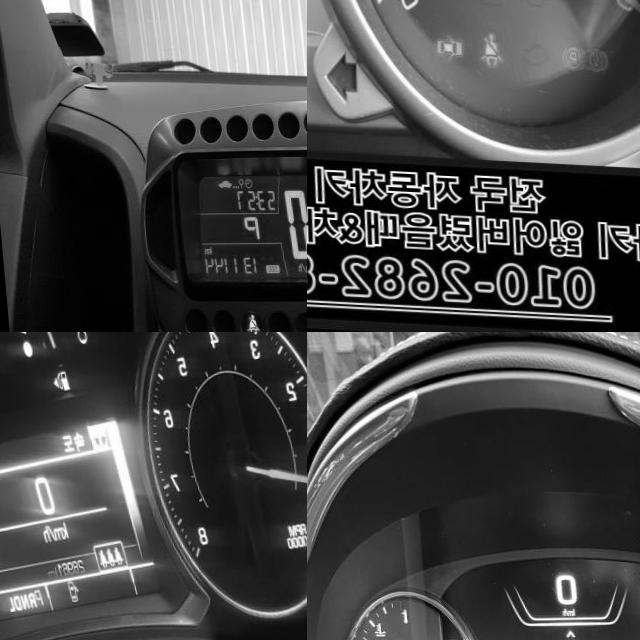Doors: (428, 33, 459, 61), (60, 580, 75, 602)
